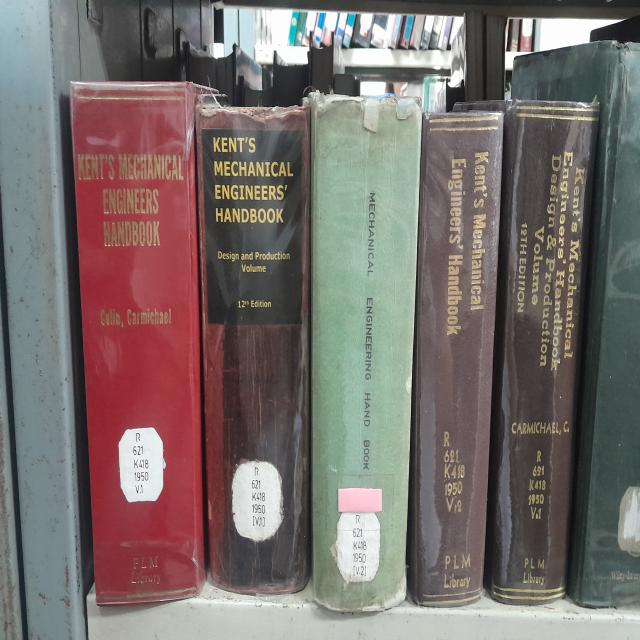book: (71, 83, 204, 604), (309, 92, 421, 612), (486, 100, 599, 604), (196, 100, 310, 593), (408, 110, 504, 606)
